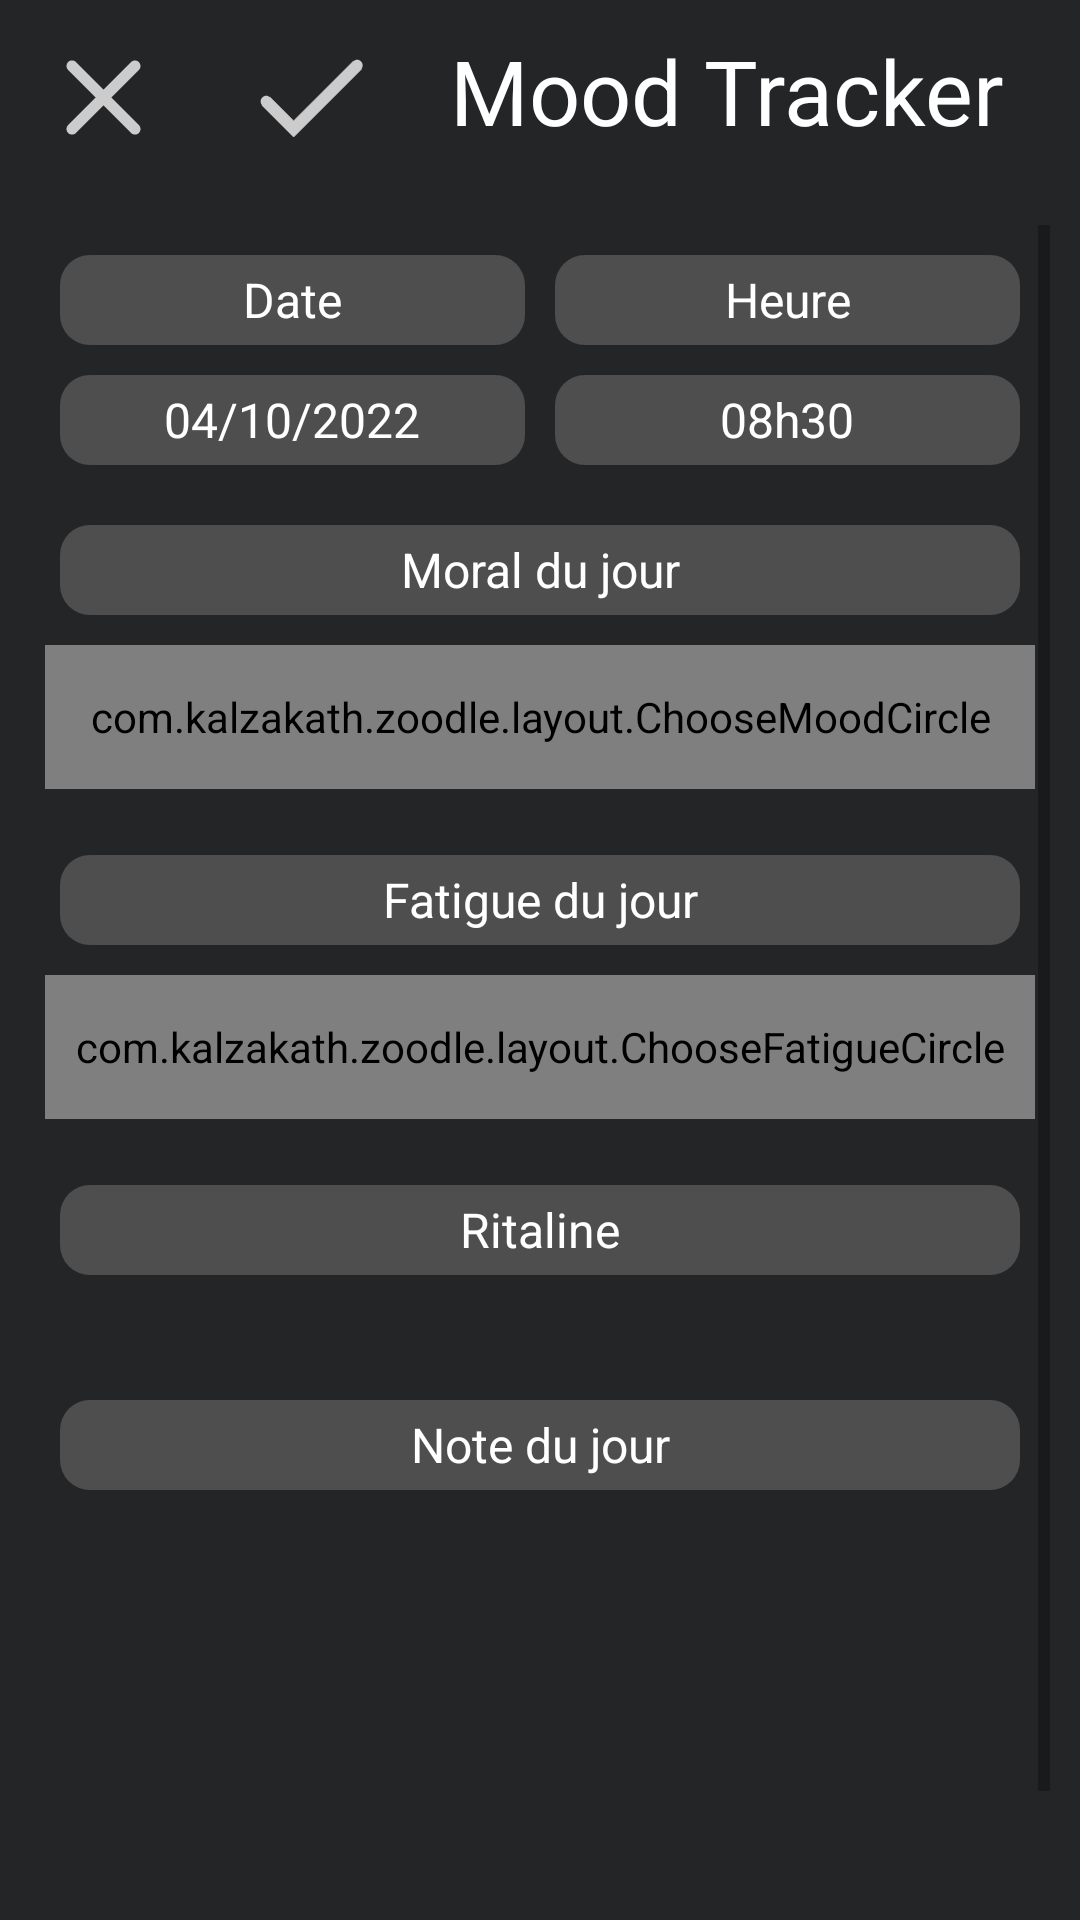

Icon bounding boxes for this 1080px×1920px phone screenshot, format (x1, y1, x2, y2):
check: (260, 59, 363, 137)
close: (66, 60, 141, 135)
